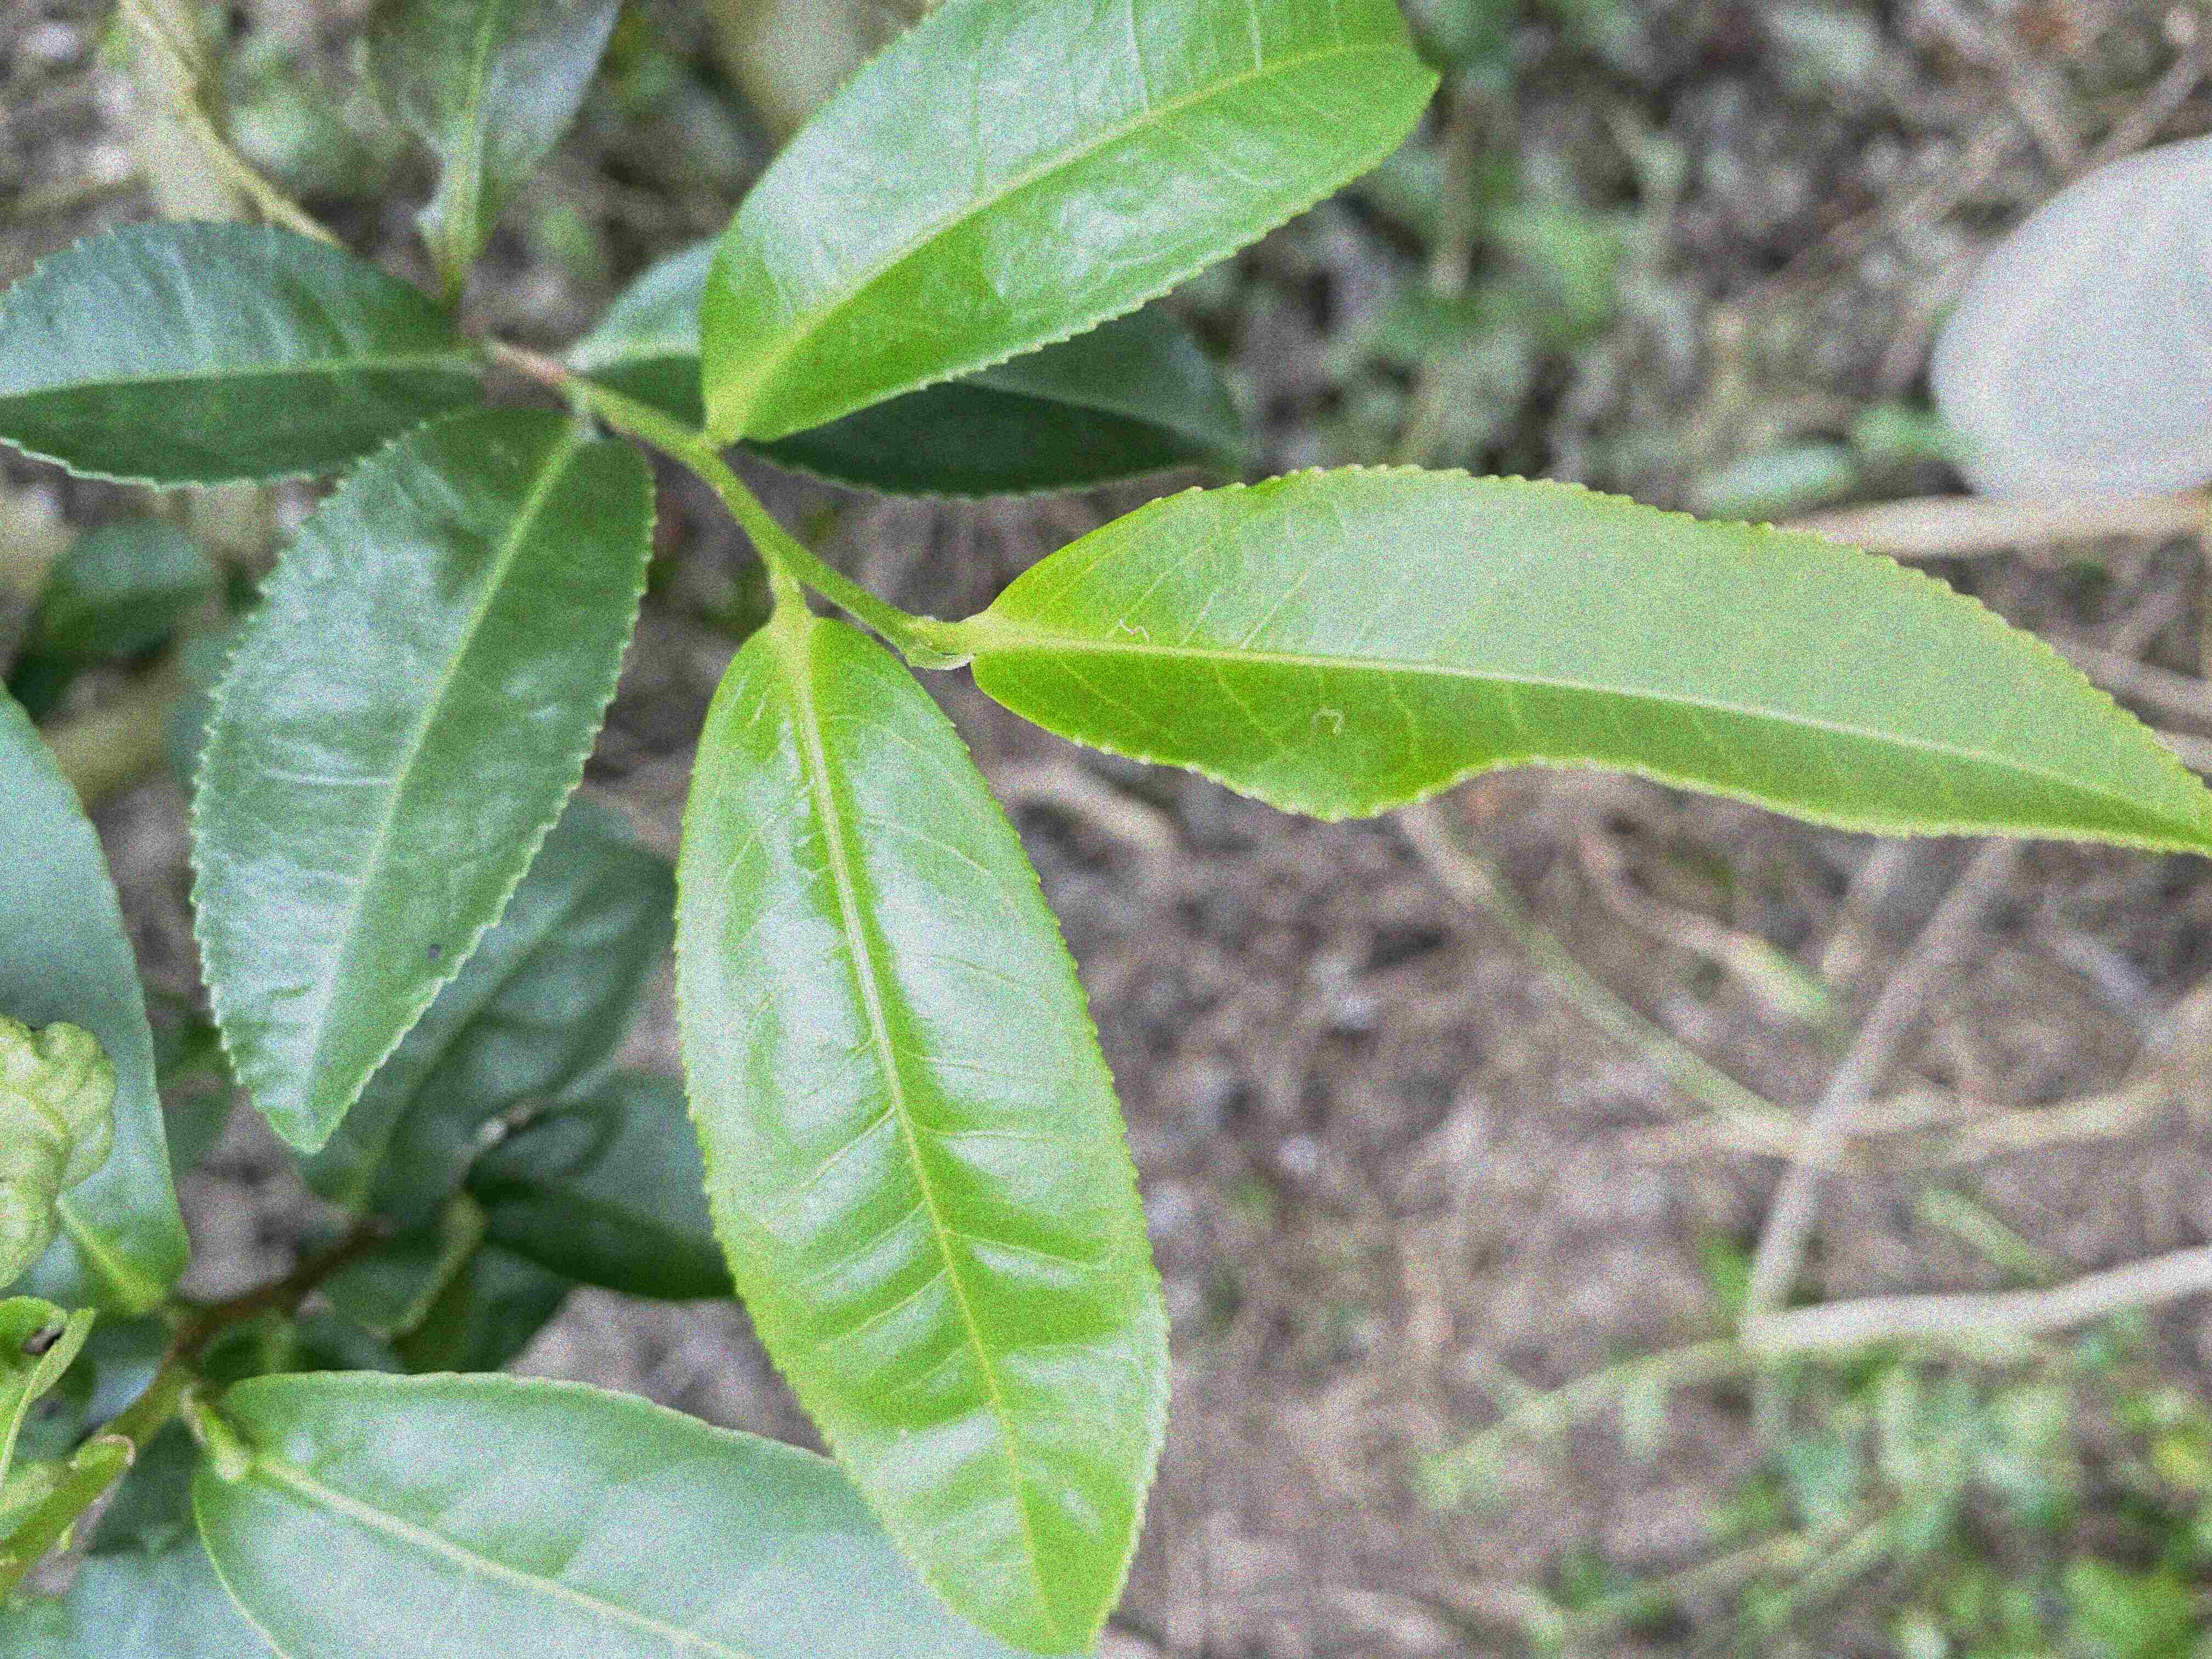healthy: (672, 613, 1172, 1652), (975, 460, 2209, 857), (183, 404, 660, 1161), (697, 0, 1440, 443), (188, 1378, 998, 1656), (3, 216, 491, 488)
